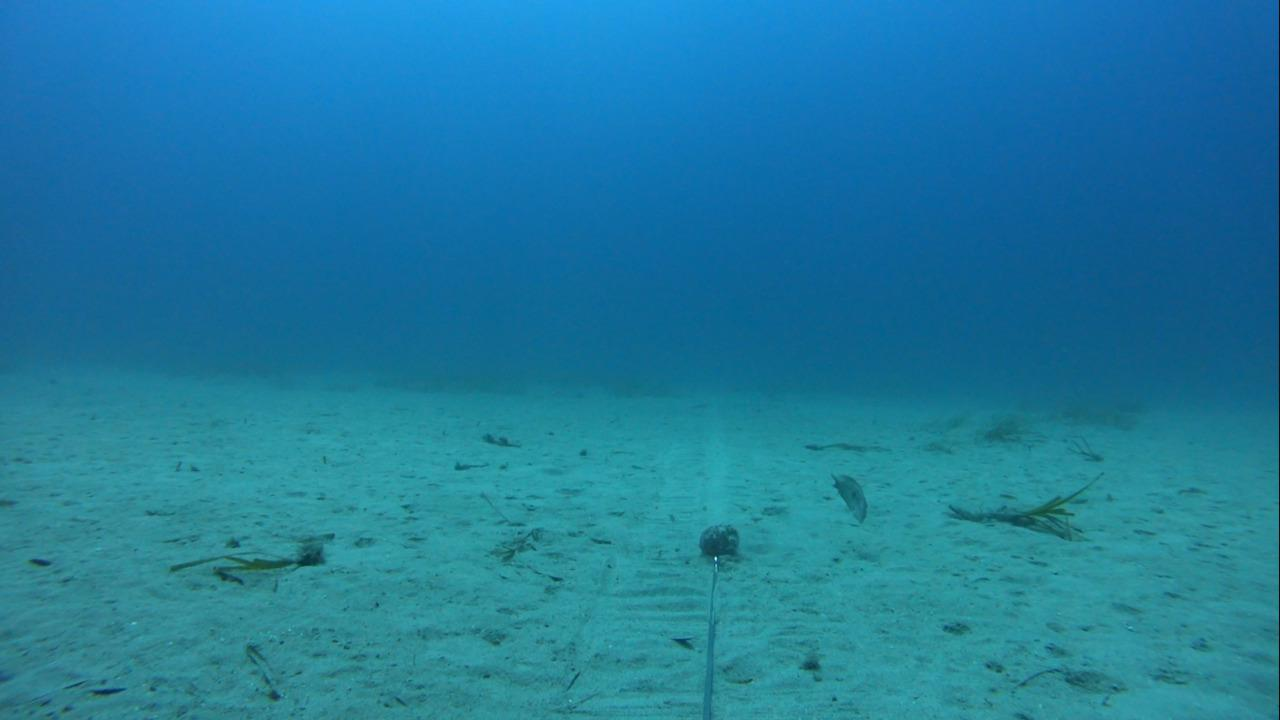raor: (824, 464, 872, 528)
